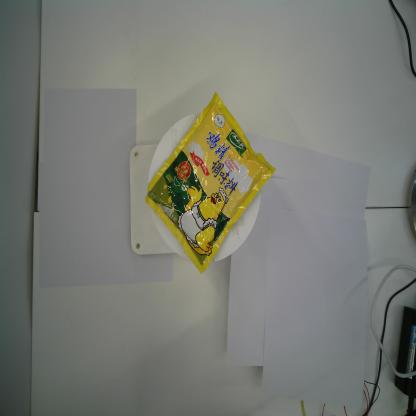Seasoner: (144, 88, 279, 278)
